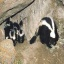skunk: (4, 16, 27, 48), (38, 16, 59, 47)
